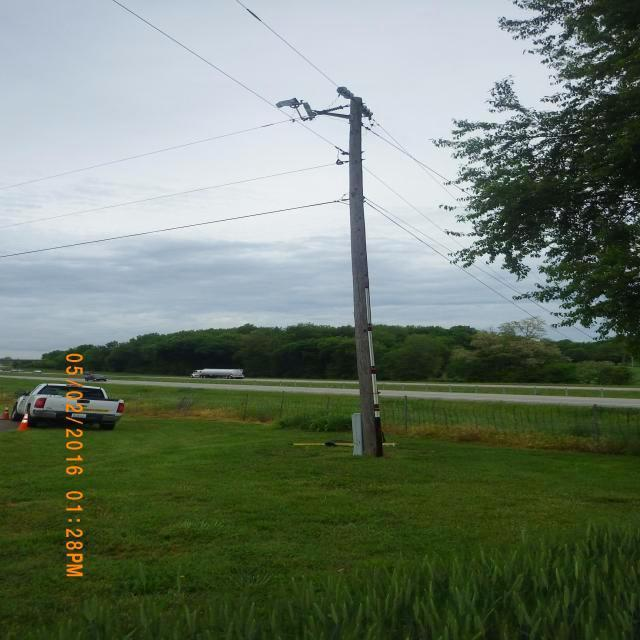crossarm: (338, 86, 374, 123), (316, 110, 355, 122)
pole: (352, 101, 383, 454)
transformer: (353, 410, 366, 455)
wire: (113, 1, 350, 158), (1, 198, 347, 261), (237, 2, 338, 89)
